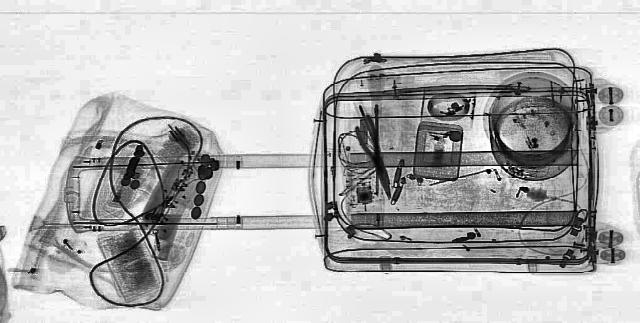Pliers: (347, 114, 403, 198)
